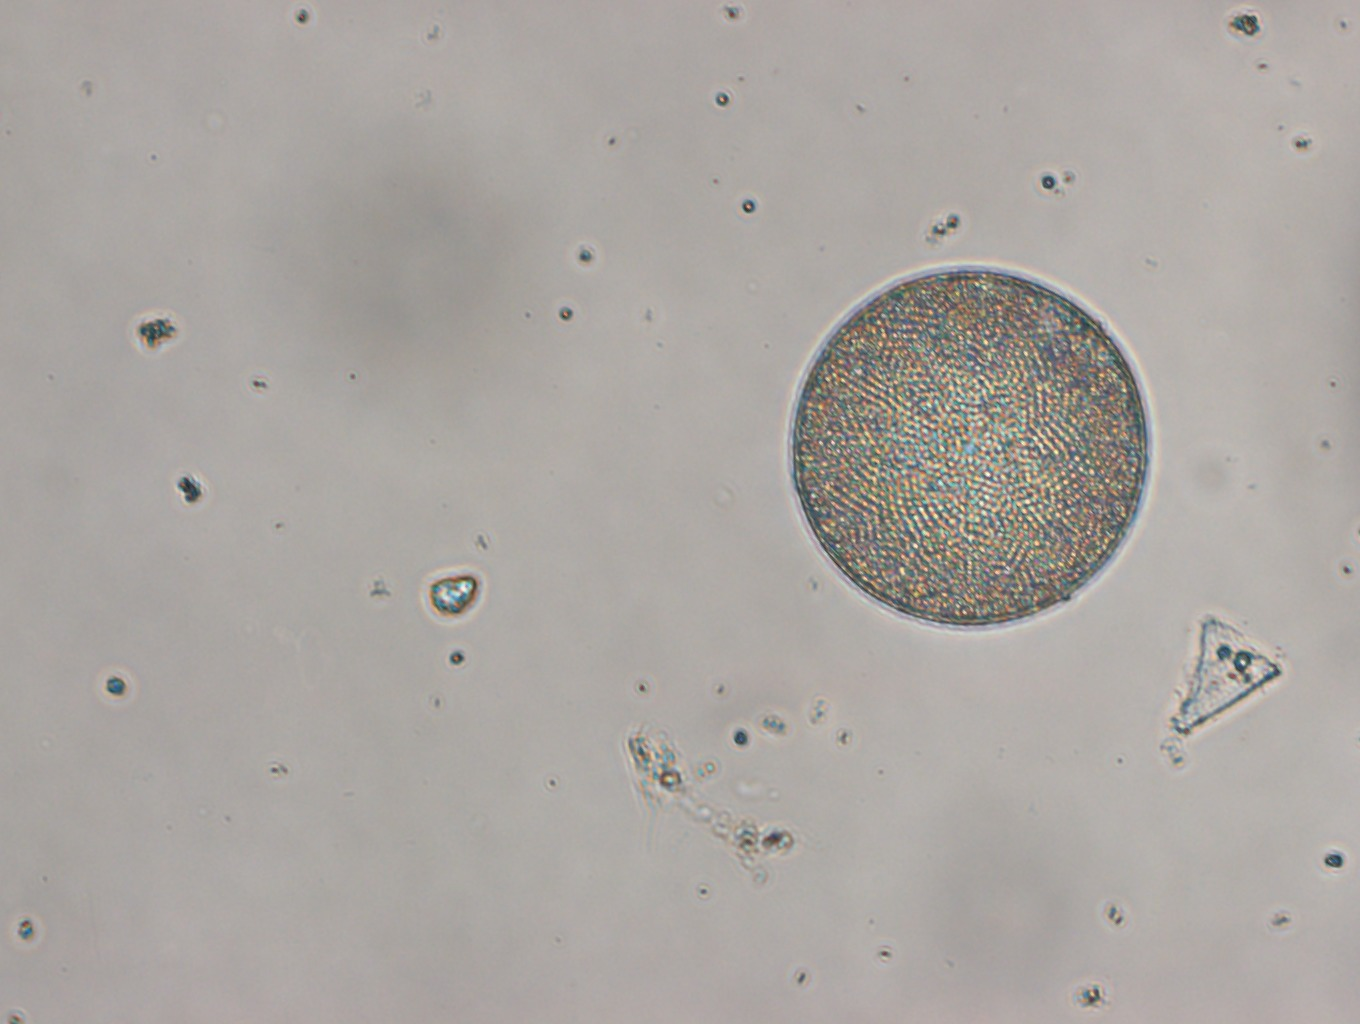coscinodiscus: (785, 264, 1151, 630)
